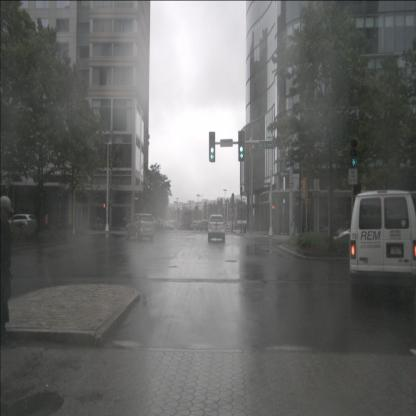human-pedestrian-adult: (0, 195, 17, 349), (44, 213, 48, 231)
vehicle-car: (349, 189, 416, 298), (0, 214, 38, 241), (126, 213, 155, 241), (208, 214, 225, 242), (310, 224, 330, 237), (200, 219, 209, 231), (164, 221, 174, 231), (224, 223, 231, 230)
vehicle-truck: (178, 212, 190, 230), (193, 221, 201, 228)
